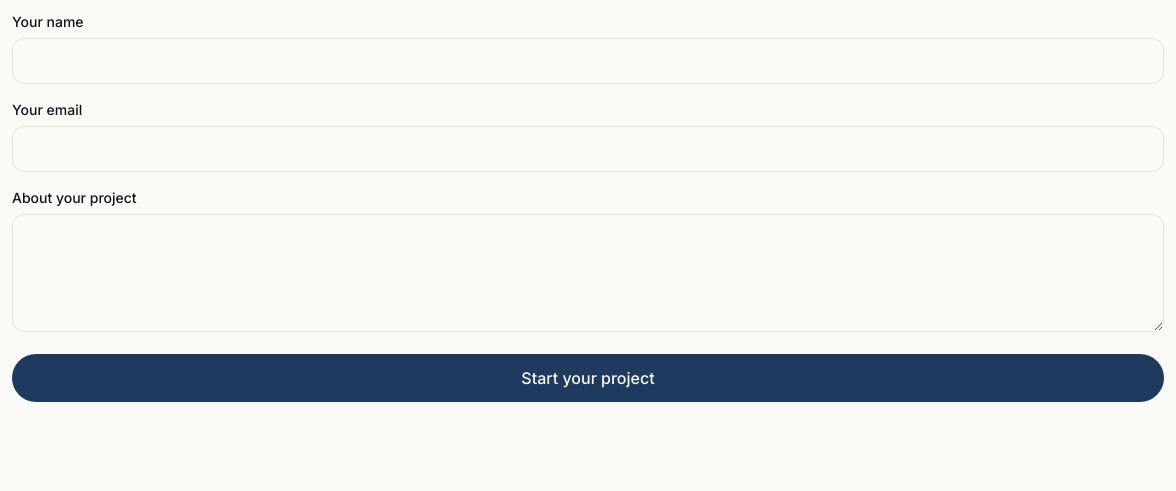
Test case: ContactForm (validated form) › announces a validation error for every empty field
Click the button "Start your project". click: coordinates (588, 378)
box: [12,354,1164,402]
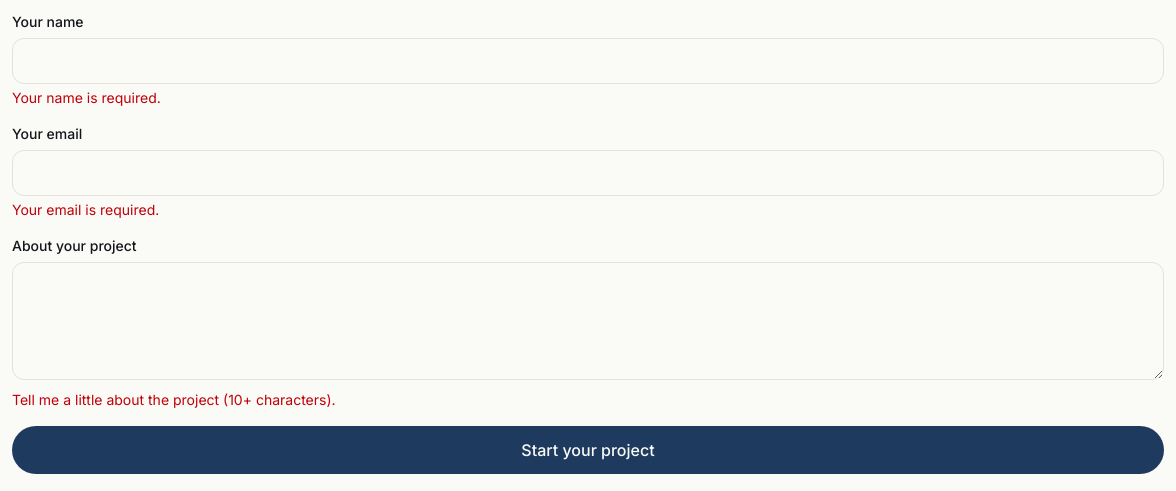
Now the number of messages is 3, box [12,89,161,106]; [12,201,159,218]; [12,391,336,408]
Now the text "Your name is required." is shown, box [12,89,161,106]
Now the text "Your email is required." is shown, box [12,201,159,218]
